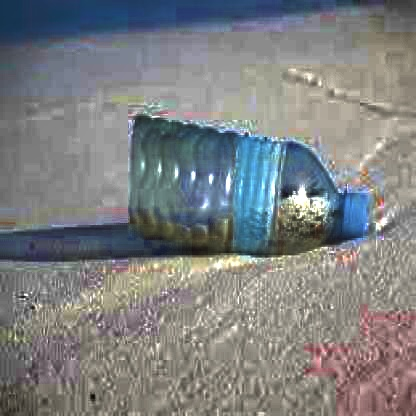pbottle: (124, 101, 376, 255)
